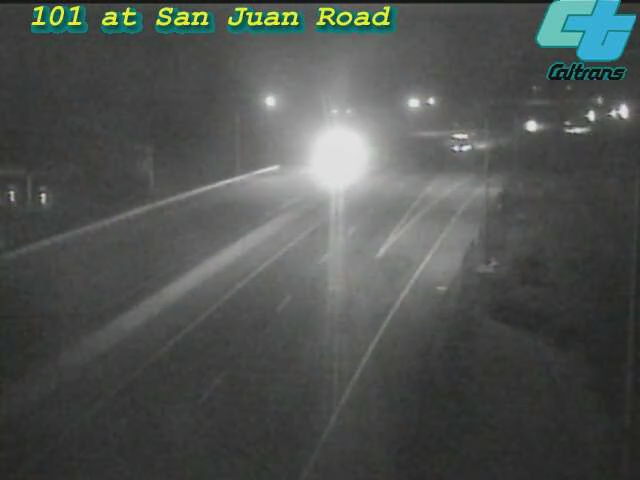vehicle: (315, 129, 365, 179), (511, 99, 561, 149), (546, 105, 596, 155), (444, 113, 494, 163), (567, 90, 617, 140), (598, 87, 640, 137)
